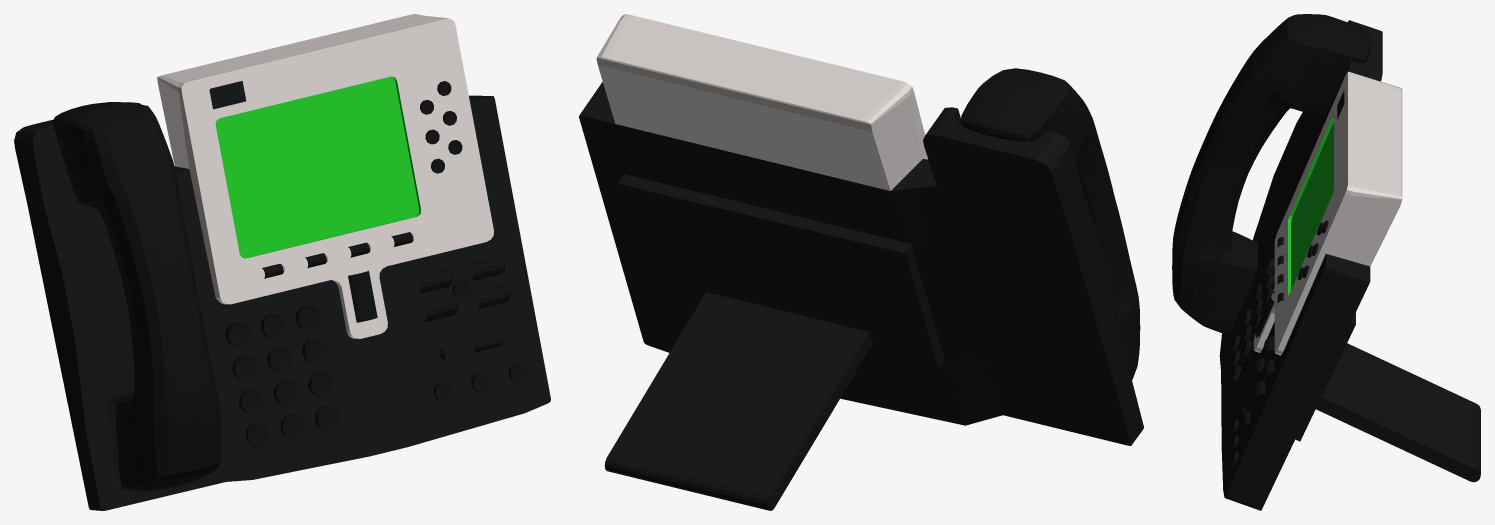
The model's file is phone.glb.
The picture shows the model from 3 angles, left to right: view 1: azimuth 30°, elevation 25°; view 2: azimuth 150°, elevation 25°; view 3: azimuth 270°, elevation 25°; orthographic projection. The views are drawn at different scales.
Visible parts, largest first — view 1: phone; view 2: phone; view 3: phone.
Part boxes in pixels (x1,y1,x2,y2): phone: (14, 14, 550, 510); phone: (579, 14, 1143, 510); phone: (1172, 14, 1480, 510).
Size of the model in its own units: 0.22 by 0.1739 by 0.1482.
